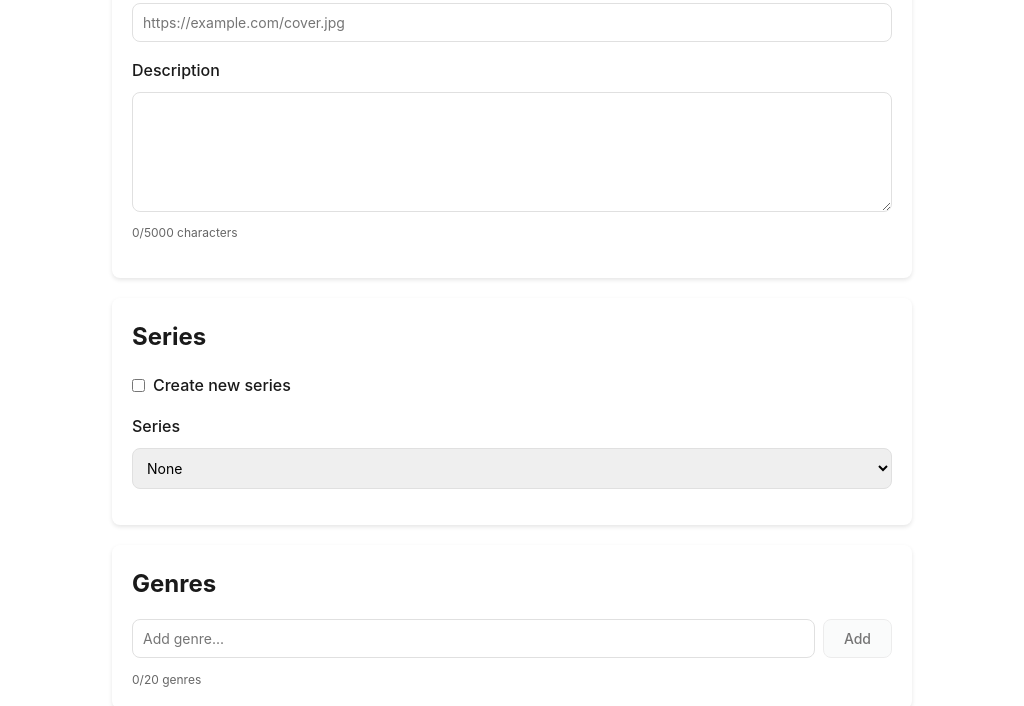
Test: AddBook › Series functionality › should hide new series form when checkbox is unchecked
This screenshot has width=1024, height=706.
(page scrolled)
Note: Check the create new series checkbox
Click the checkbox labelled "Create new series" at (138, 386), box top-left (132, 379), bottom-right (145, 392)
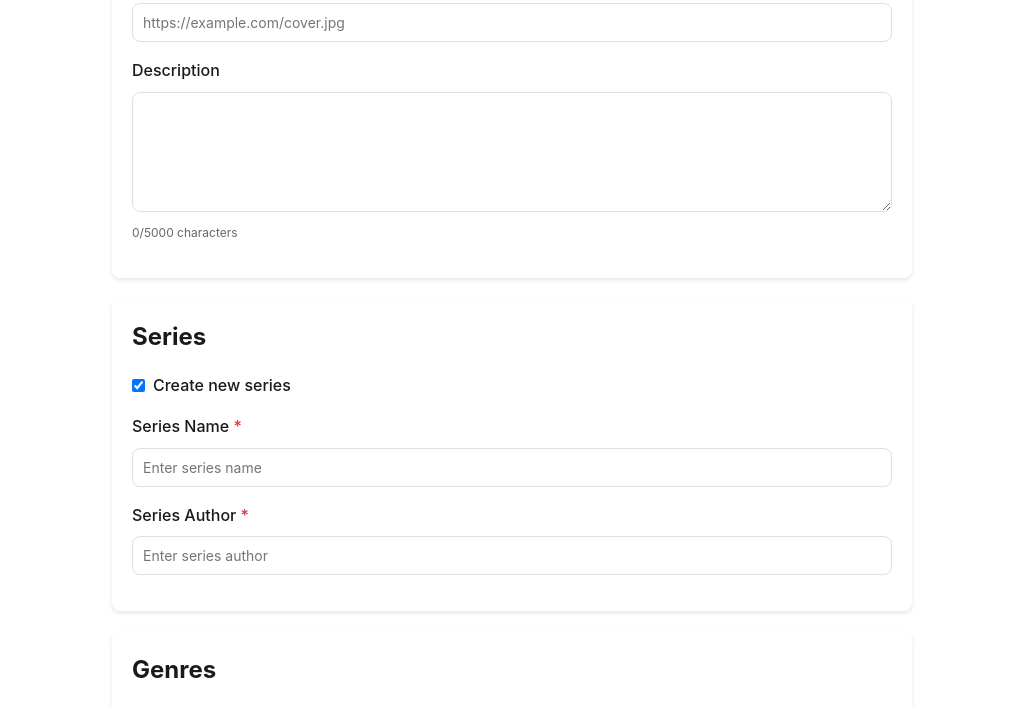
Expected: the field labelled "Series Name *" is shown, top-left (132, 448), bottom-right (892, 487)
Note: Uncheck the checkbox
Click the checkbox labelled "Create new series" at (138, 386), box top-left (132, 379), bottom-right (145, 392)
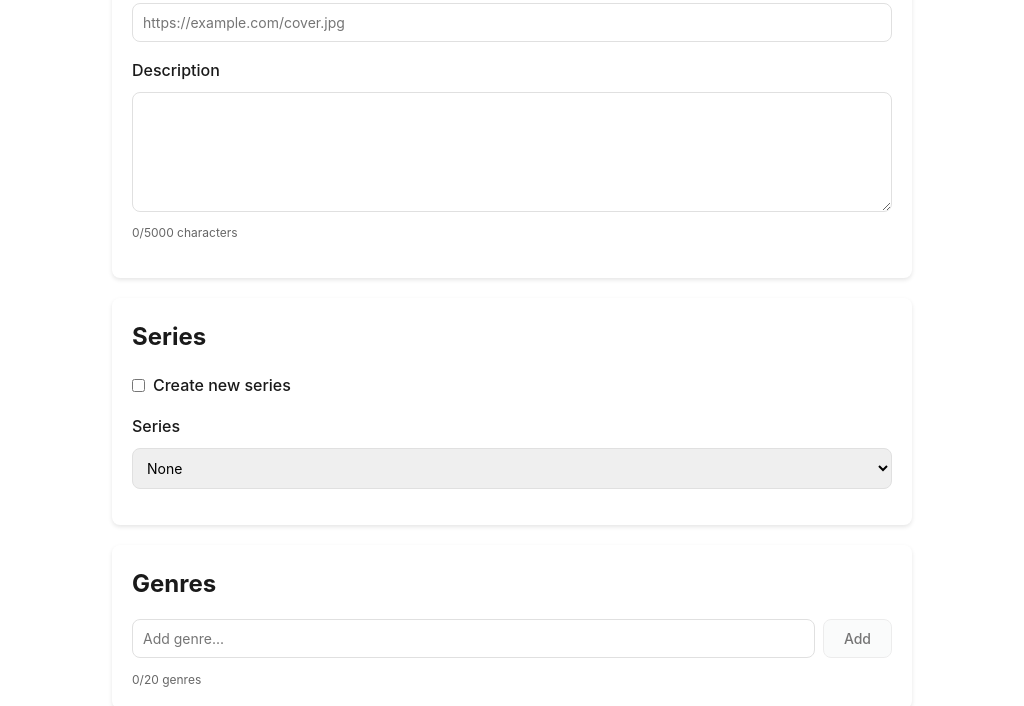
Expected: the label labelled "Series Name" is gone
Expected: the dropdown labelled "Series" is shown, top-left (132, 448), bottom-right (892, 489)
